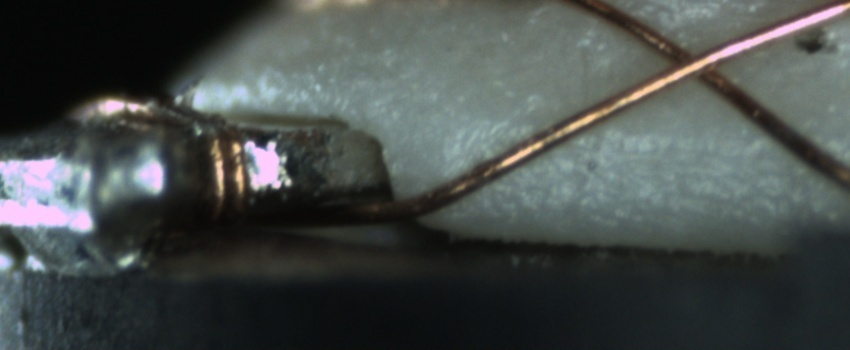CL: (644, 28, 743, 96)
DL: (465, 115, 827, 177)
TE: (61, 82, 256, 230)
